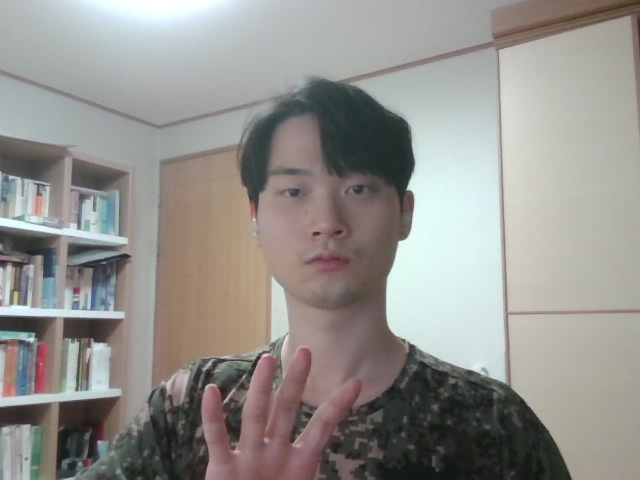hello: (154, 331, 395, 480)
